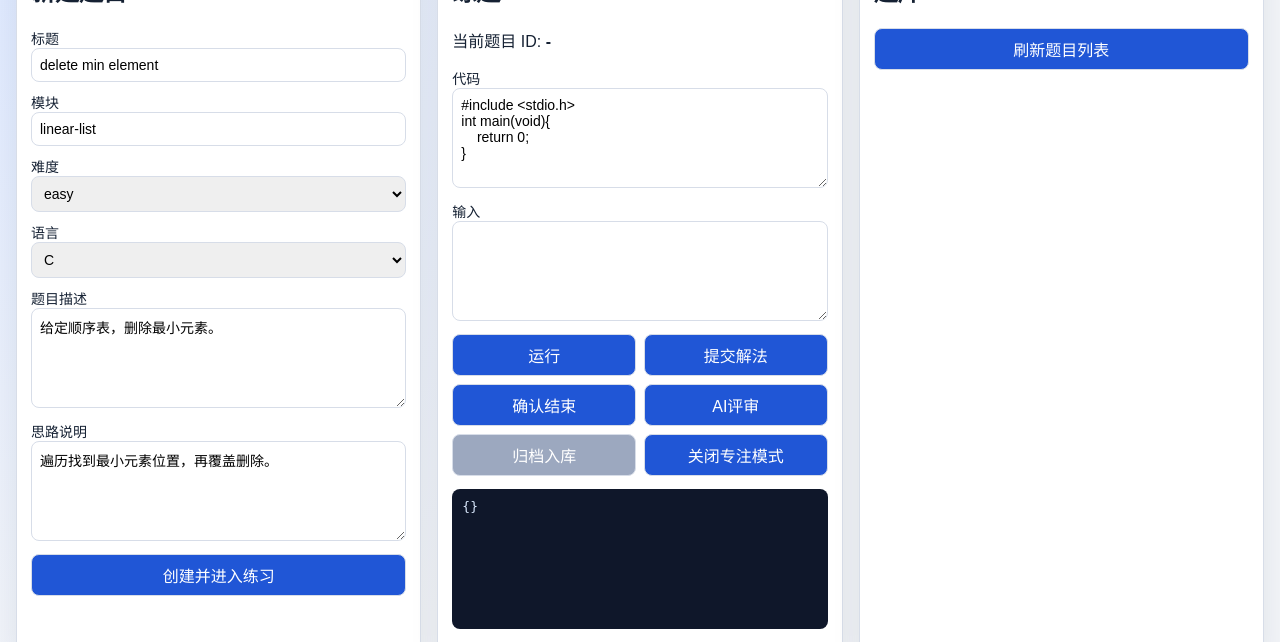
Scenario: focus mode keeps textual AI feedback visible
Click the button "创建并进入练习" at (219, 575), box [31,554,406,596]
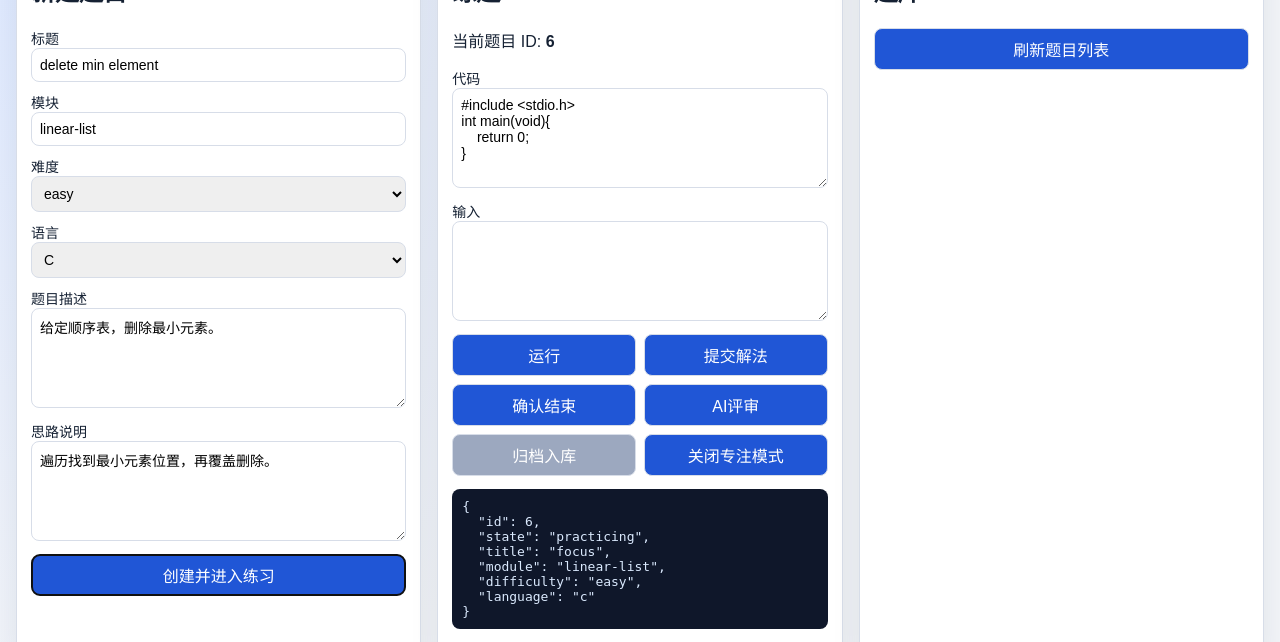
Click the button "AI评审" at (736, 405), box [644,384,828,426]
(page scrolled)
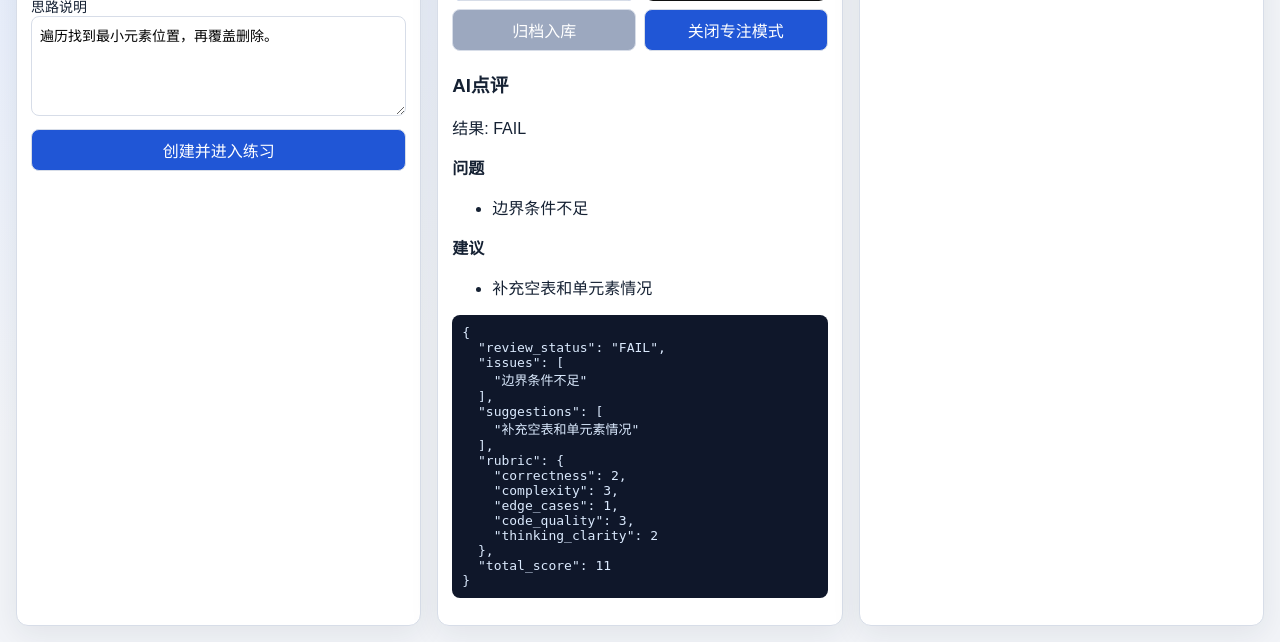
Result: the heading "AI点评" is shown at [452,74,508,96]
Result: the list item "边界条件不足" is shown at [492,200,588,217]
Result: the list item "补充空表和单元素情况" is shown at [492,280,652,297]
